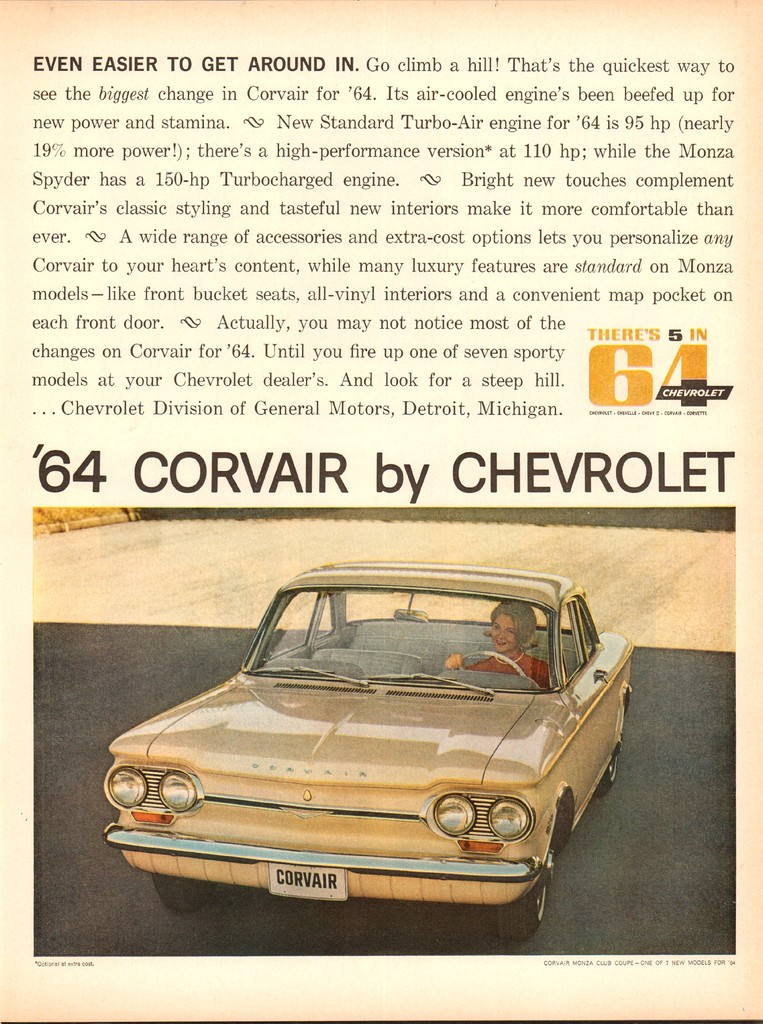Car: (101, 557, 633, 940)
